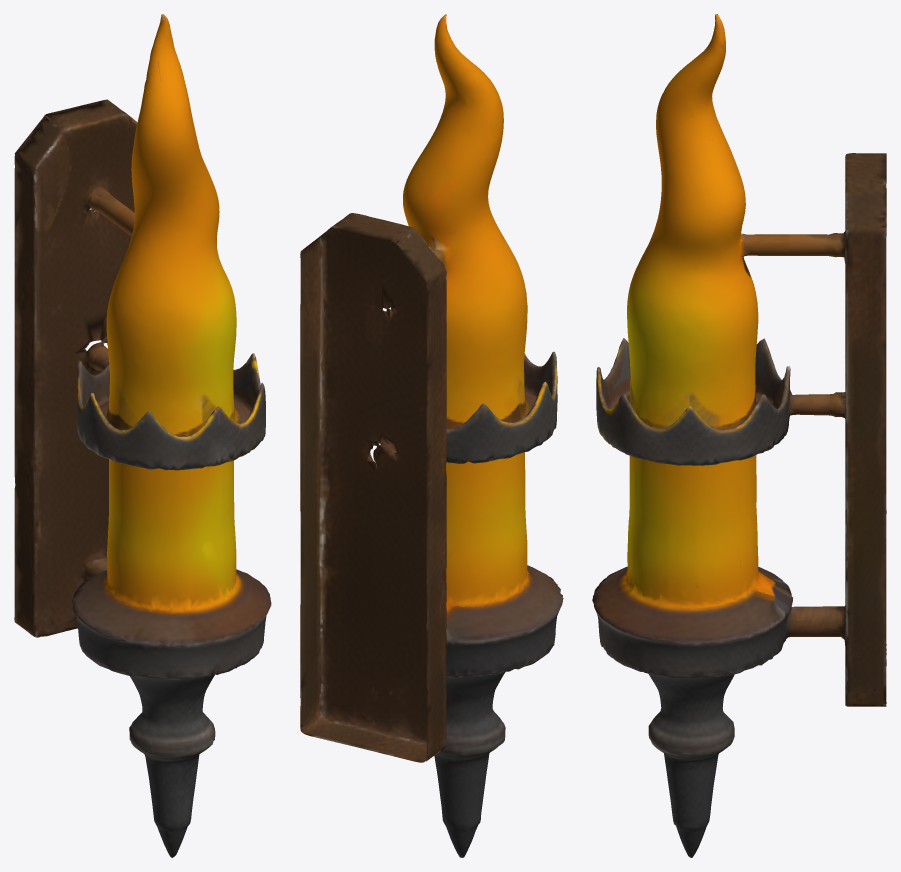
Rendered from torch.glb.
The picture shows the model from 3 angles, left to right: view 1: azimuth 30°, elevation 25°; view 2: azimuth 150°, elevation 25°; view 3: azimuth 270°, elevation 25°; orthographic projection. The views are drawn at different scales.
Visible parts, largest first — view 1: model; view 2: model; view 3: model.
Boxes of the visible parts, x1,y1,x2,y2 form: model: (14, 14, 271, 857); model: (300, 14, 563, 857); model: (592, 14, 886, 857).
Size of the model in its own units: 0.4129 by 1.9 by 0.6004.
Materials: 1 (1 with a texture image).
